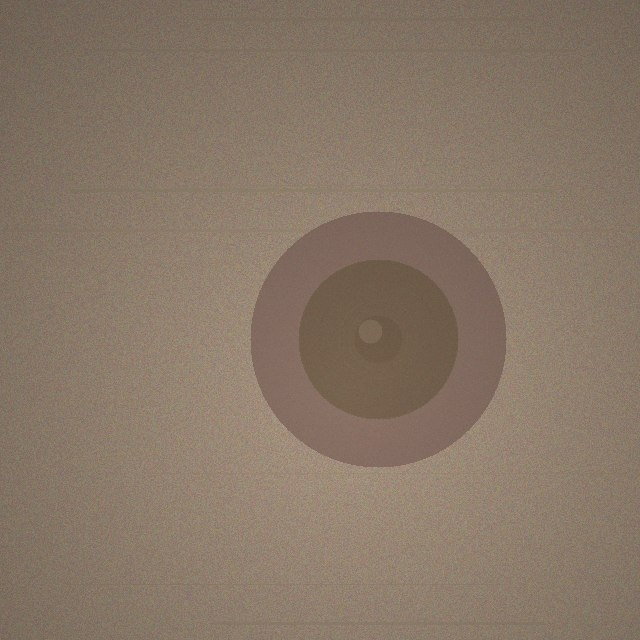good: (250, 211, 506, 467)
